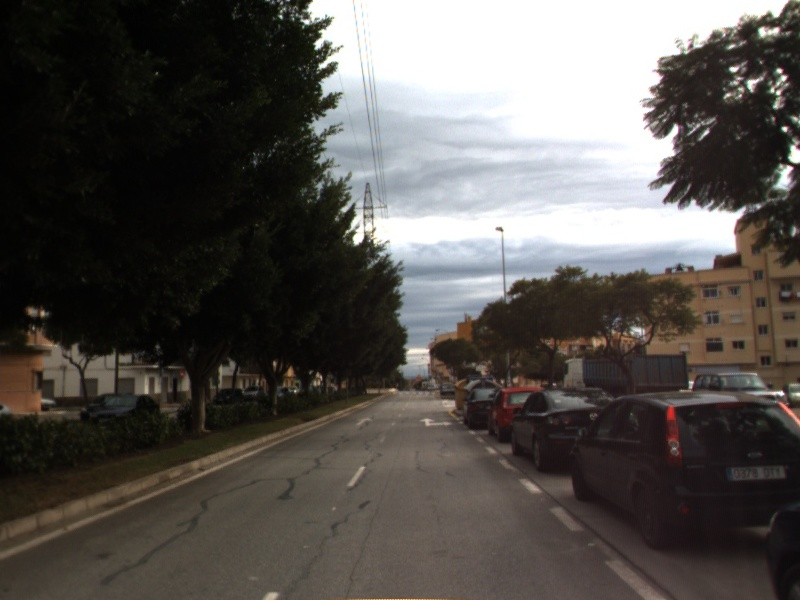STRAIGHT: (352, 415, 376, 428)
STRAIGHT_RIGHT: (417, 415, 455, 429)
